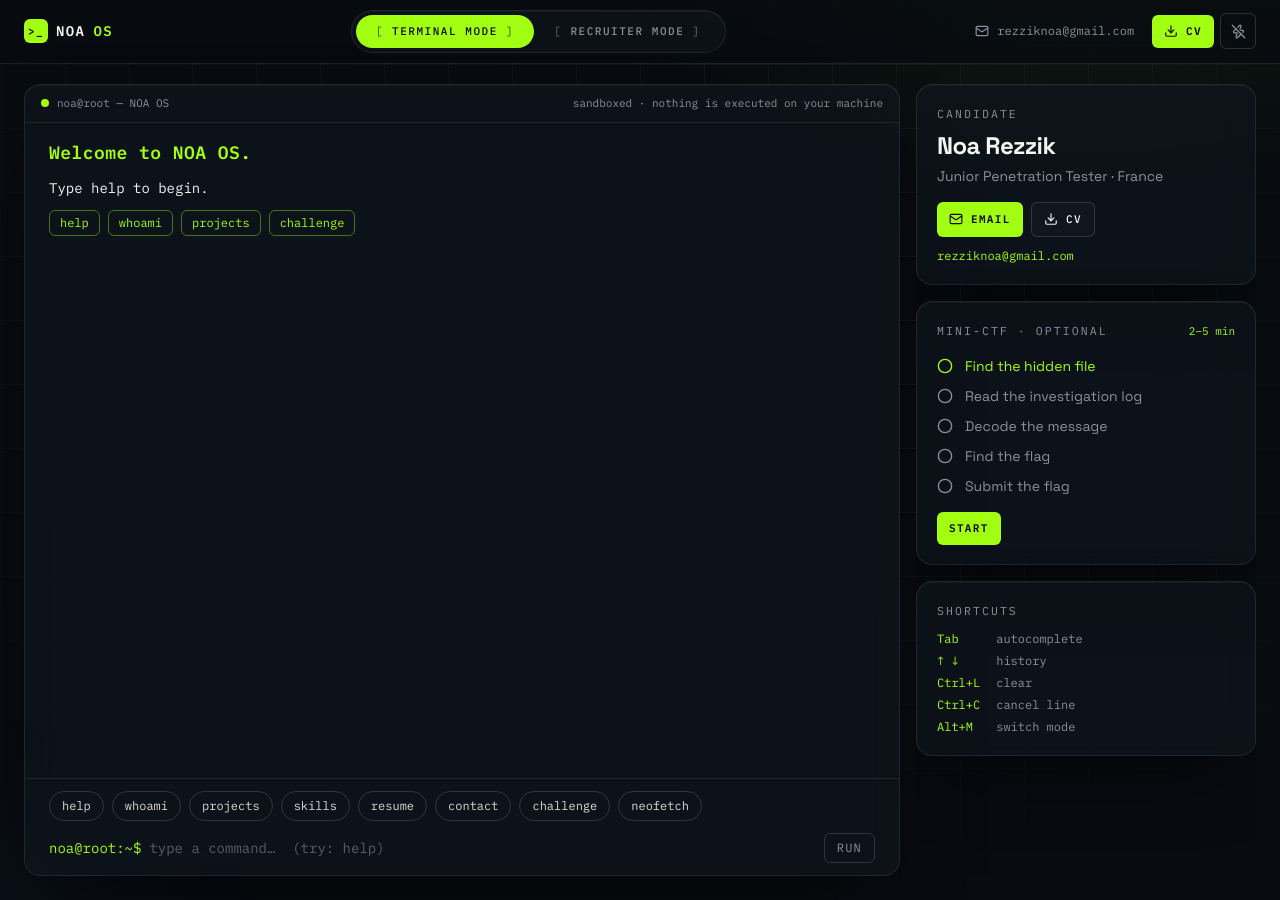
Test: terminal UI › clear and Ctrl+L empty the screen
Type "pwd" into the field named "Terminal command input" at (483, 848), box [149,837,816,859]
Then press Enter
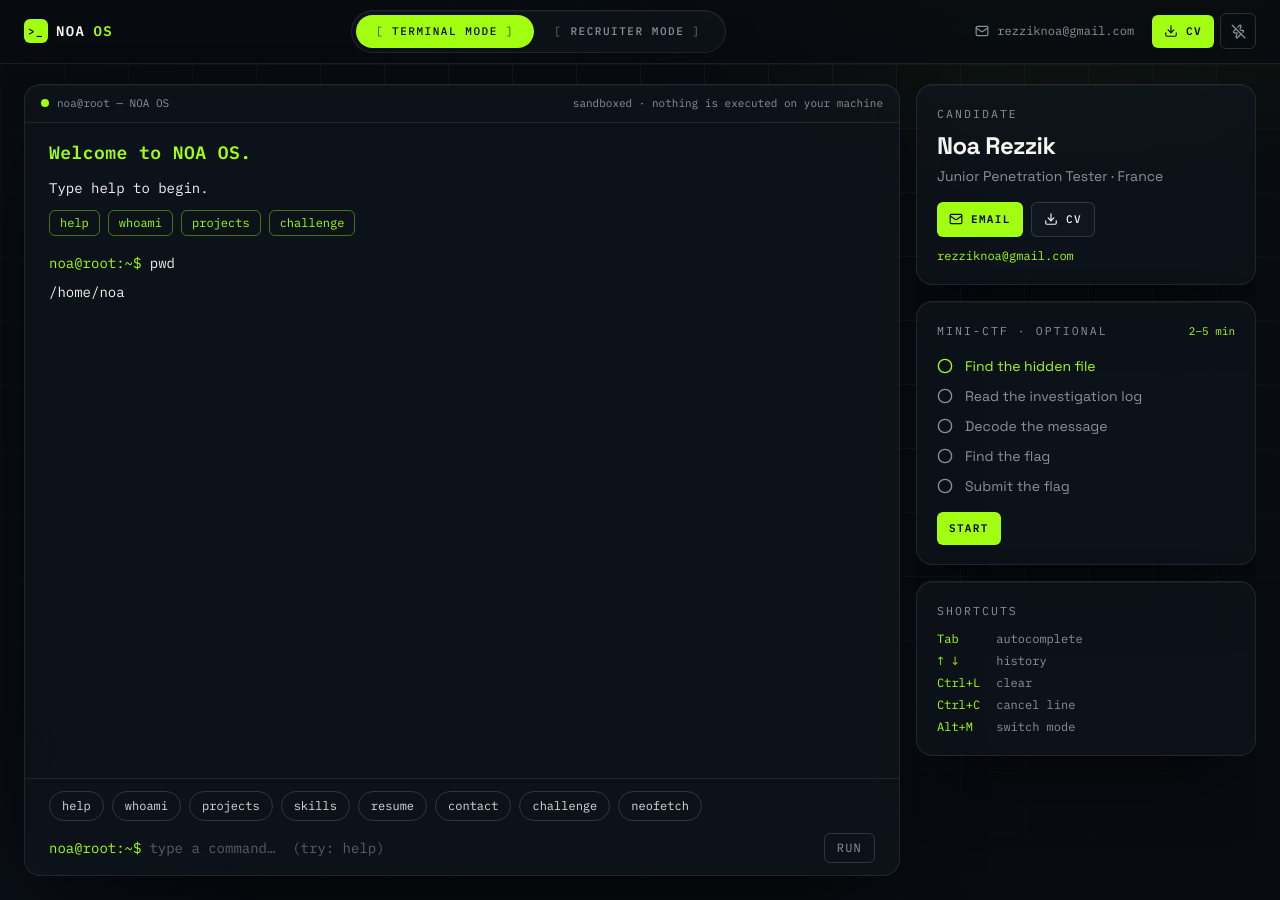
Type "clear" into the field named "Terminal command input" at (483, 848), box [149,837,816,859]
Then press Enter
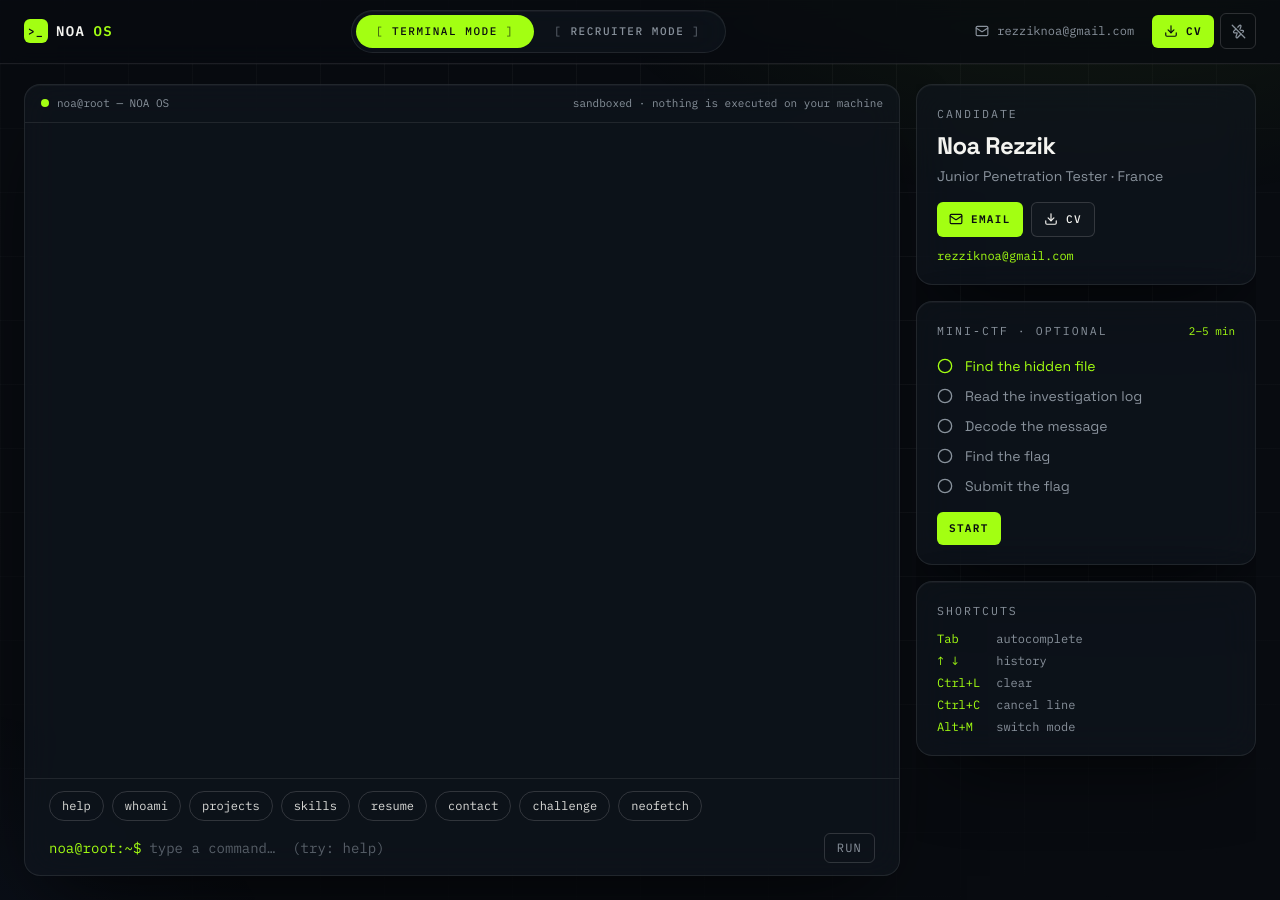
Check: no elements with test id "entry" are shown
